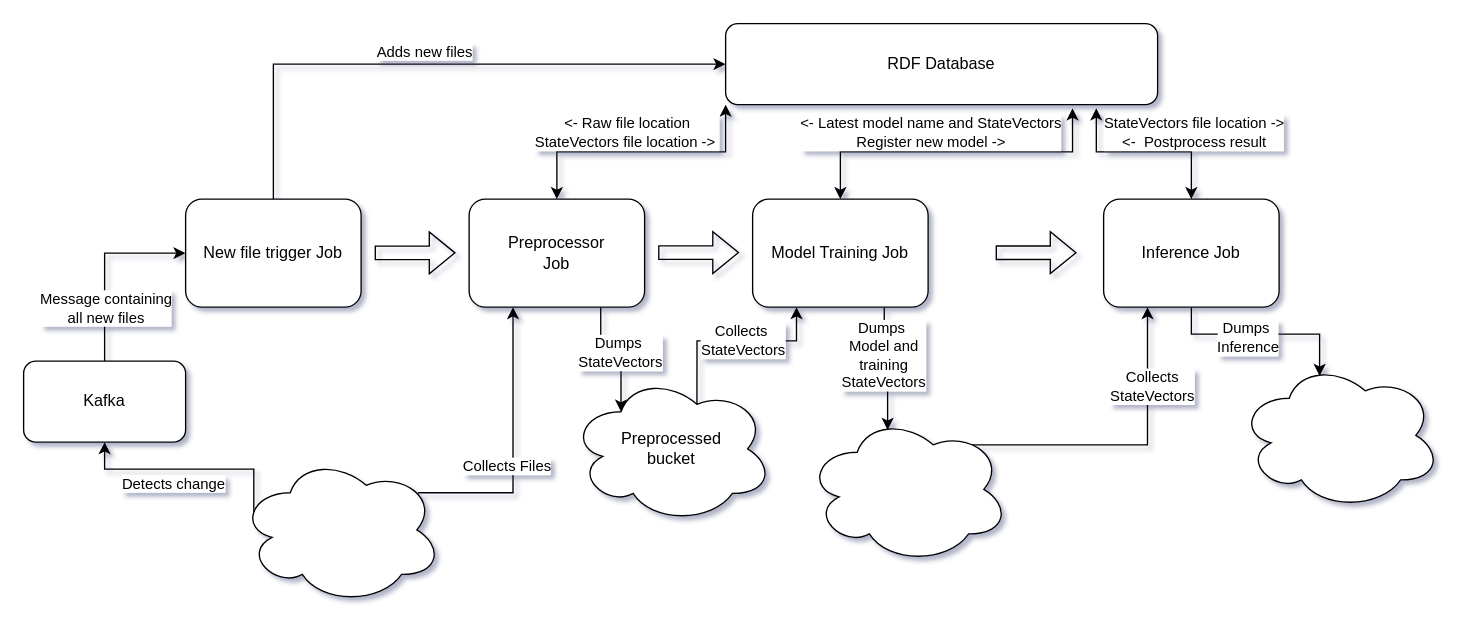
Image size: 1473x636. Some labels were removed from this diagram. Here are the shapes that lost their labels. From the top down, the centre of each, then its label:
At point (1339, 435): "Inference bucket".
At point (907, 489): "Model bucket".
At point (340, 529): "Raw bucket".
